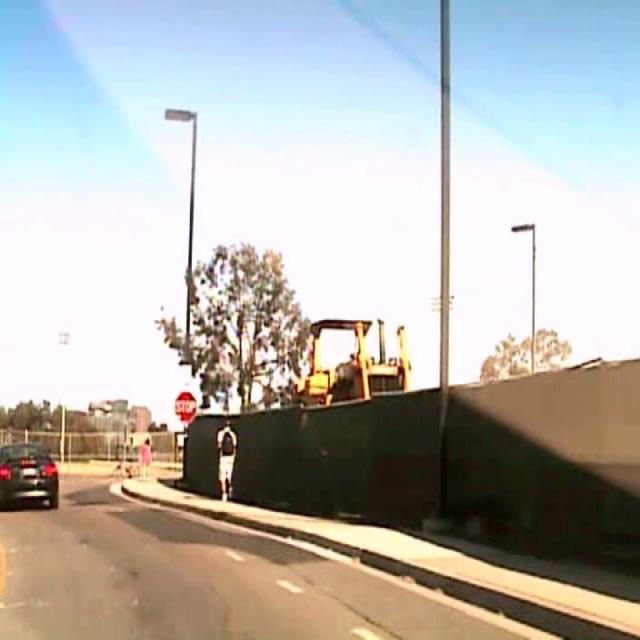stop: (174, 390, 197, 422)
